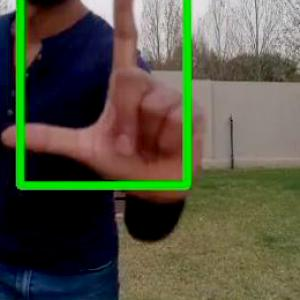land_hand: (8, 0, 211, 200)
